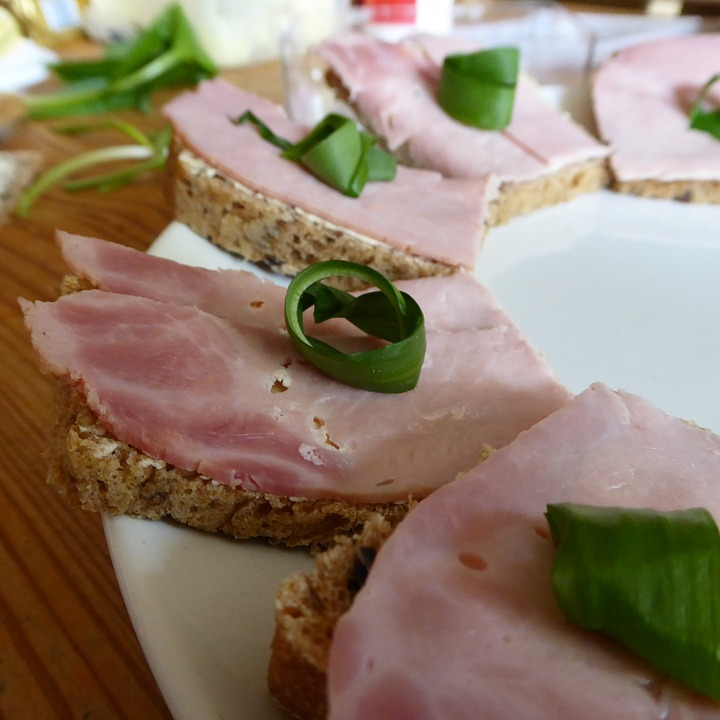slice of bread: (176, 175, 456, 300), (64, 458, 385, 566), (263, 521, 382, 698), (492, 180, 613, 224)
